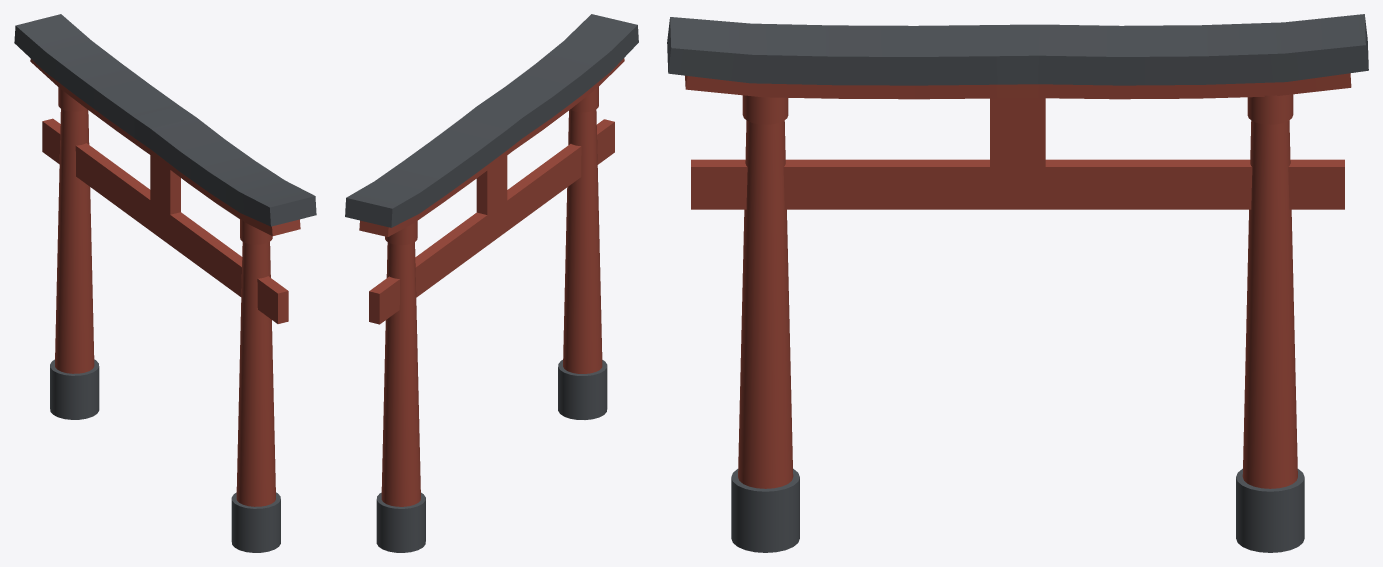
File: Torii.fbx
The picture shows the model from 3 angles, left to right: view 1: azimuth 30°, elevation 25°; view 2: azimuth 150°, elevation 25°; view 3: azimuth 270°, elevation 25°; orthographic projection. The views are drawn at different scales.
Visible parts, largest first — view 1: Torii; view 2: Torii; view 3: Torii.
Part boxes in pixels (x1=…): Torii: x1=14, y1=14, x2=316, y2=552; Torii: x1=345, y1=14, x2=638, y2=552; Torii: x1=667, y1=14, x2=1368, y2=552.
Bounding box in the file's own units: 0.4754 × 3.29 × 4.13.
